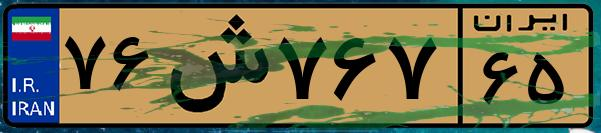5: (525, 38, 570, 115)
6: (330, 28, 385, 110), (475, 38, 525, 113), (110, 28, 158, 98)
7: (270, 28, 330, 110), (385, 28, 445, 110), (57, 26, 110, 100)
ش: (158, 12, 270, 120)
